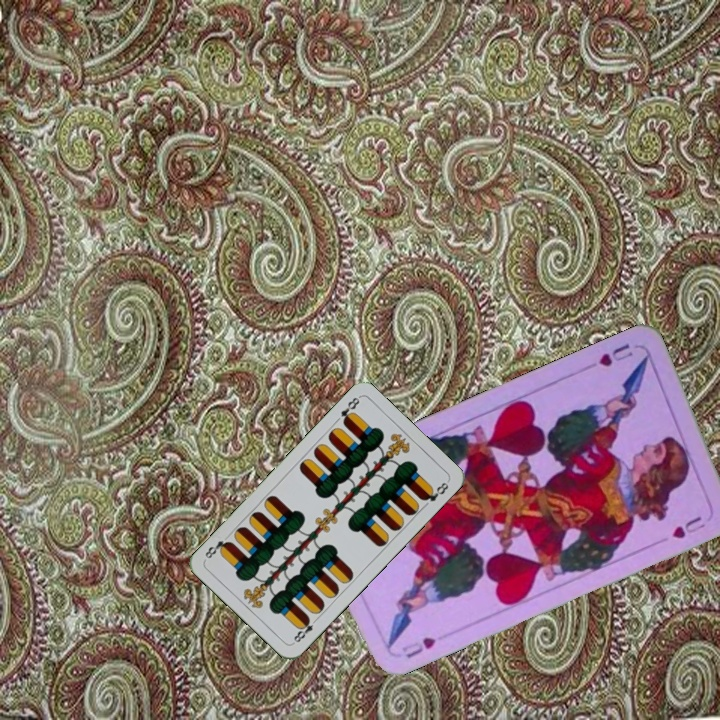E8: (289, 614, 321, 646), (336, 393, 362, 427)
HU: (594, 339, 636, 369), (397, 633, 439, 661)
